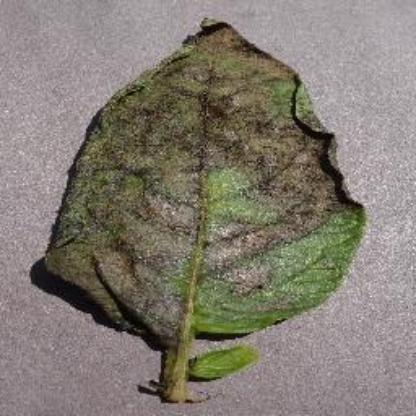Late-Blight: (33, 13, 385, 406)
